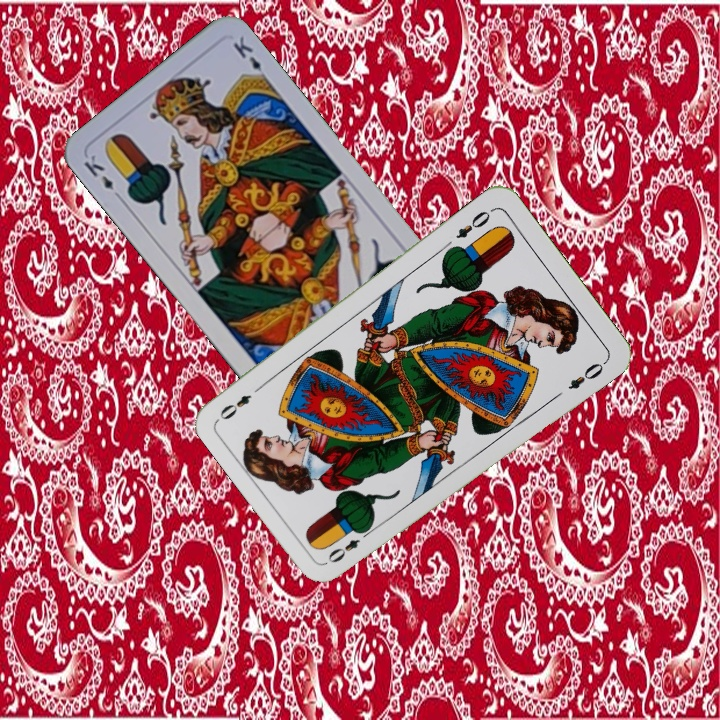EK: (80, 150, 125, 203)
EO: (323, 524, 374, 566), (451, 207, 493, 242)
